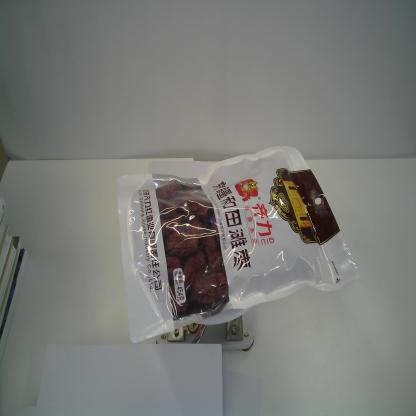Dried Food: (114, 143, 360, 348)
